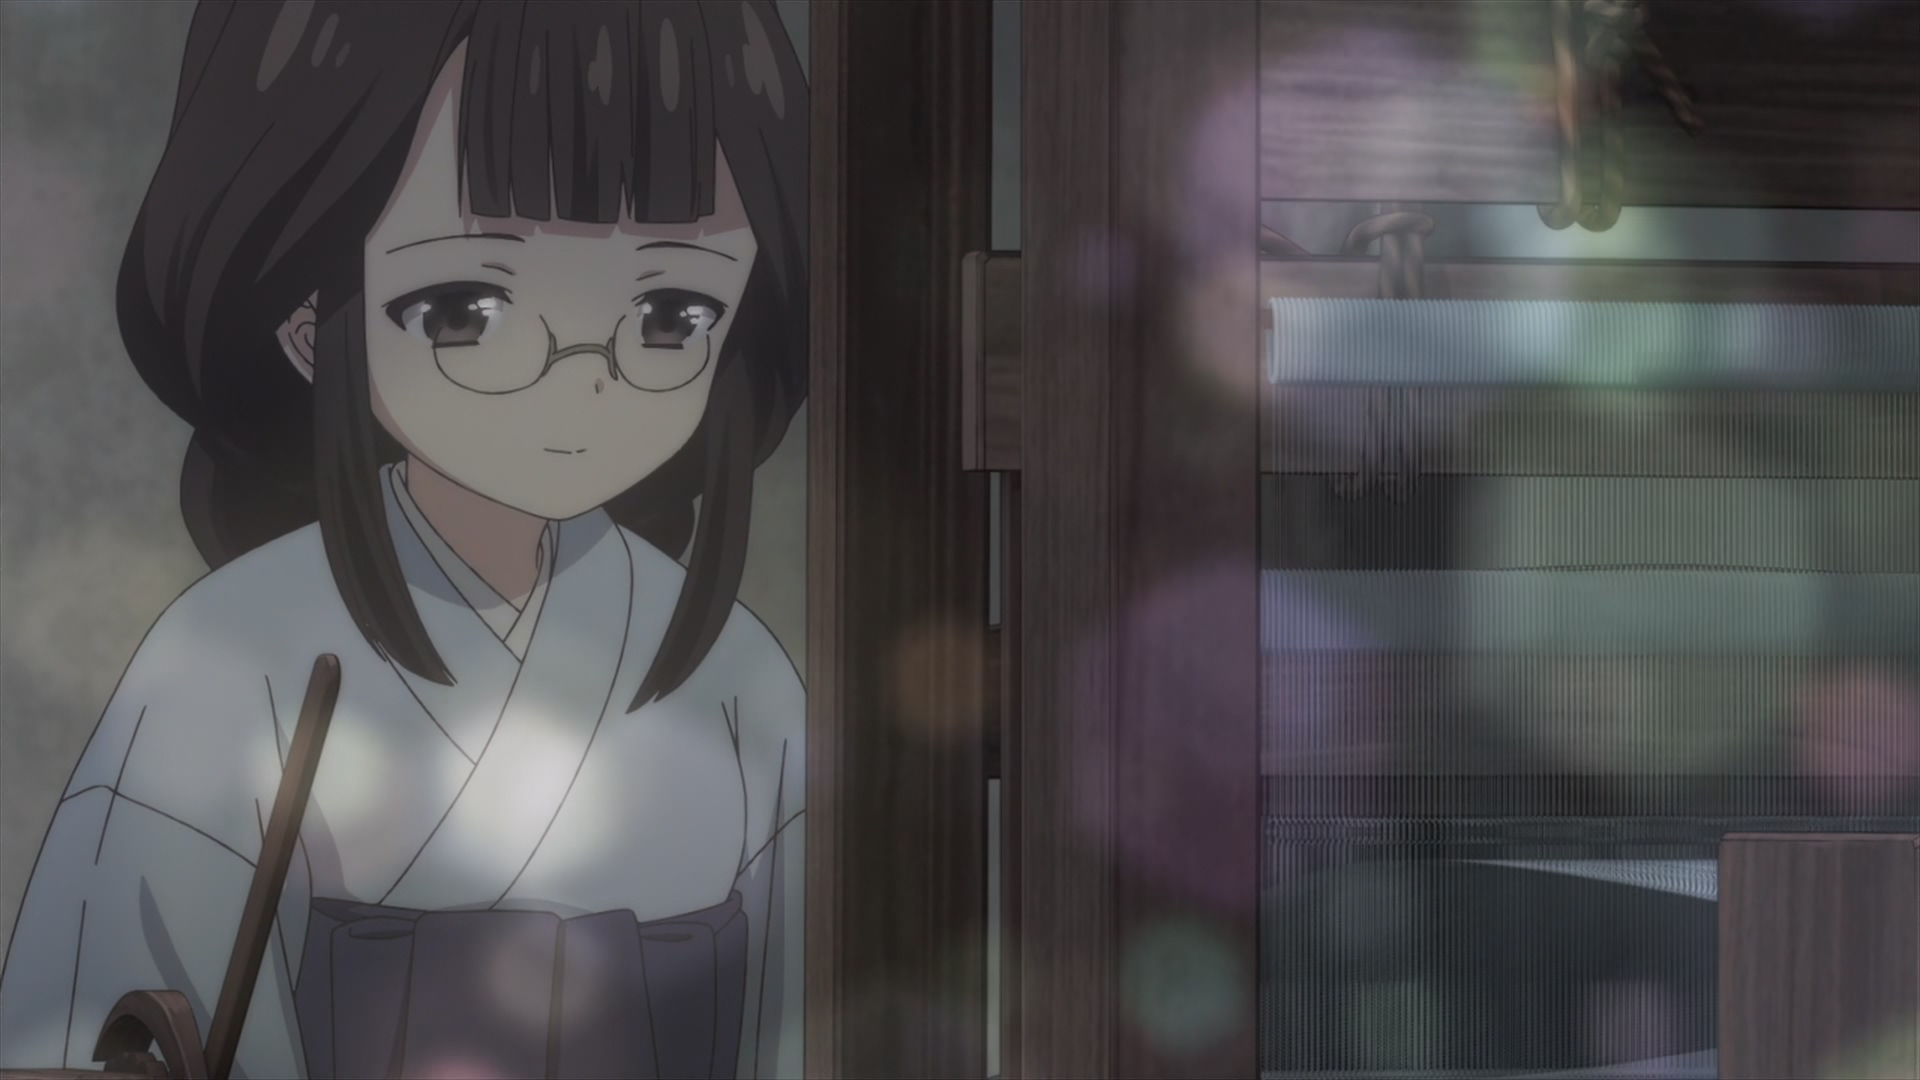其他: (1, 1, 810, 1080)
